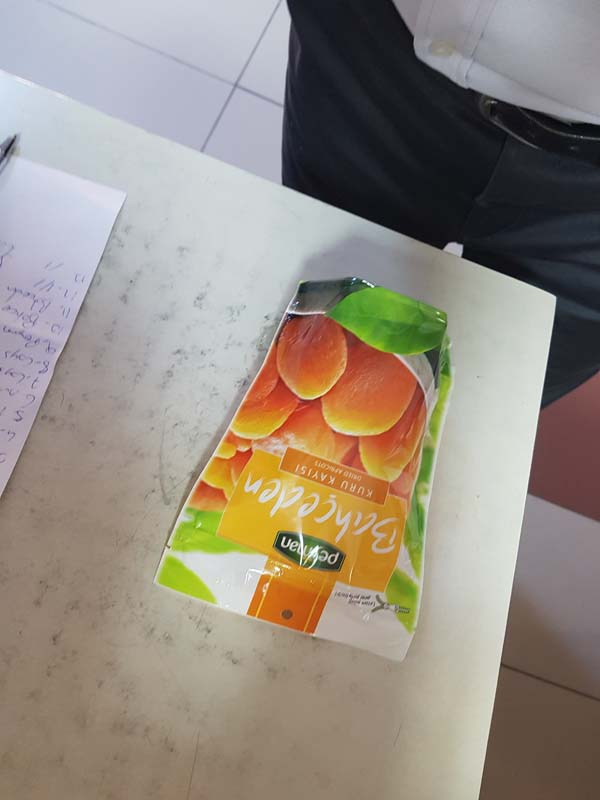bahcedenkurukayisi: (152, 273, 491, 666)
